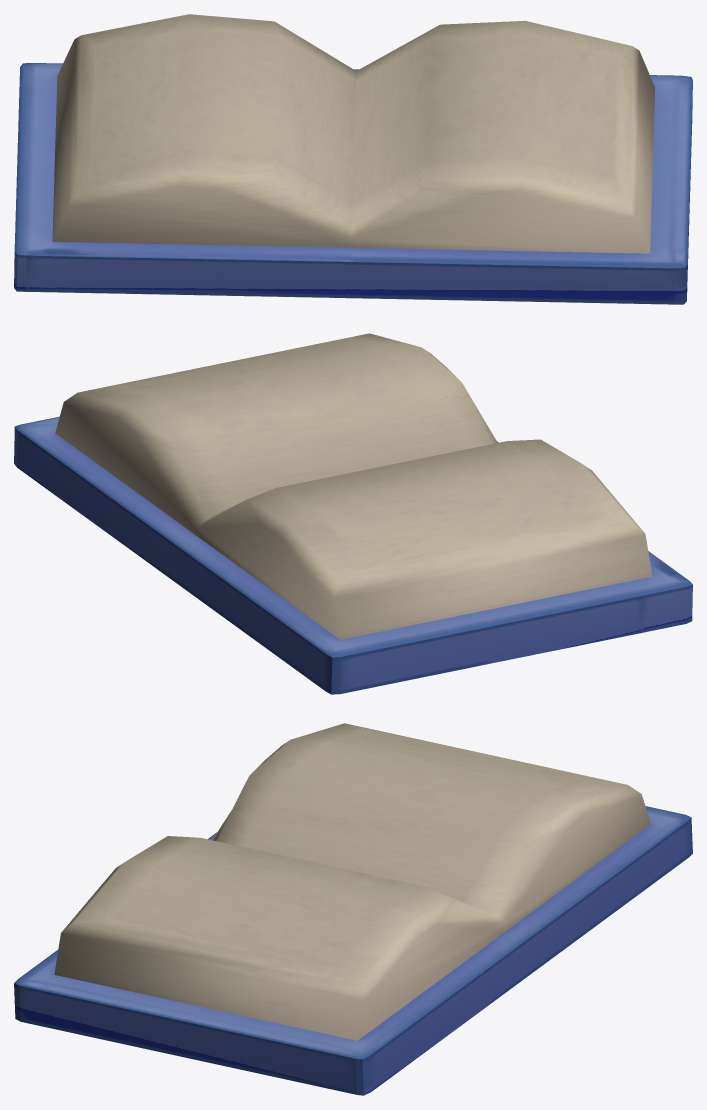
The model's file is book.glb.
3 views of the same model, one above another, from view 1: azimuth 30°, elevation 25°; view 2: azimuth 150°, elevation 25°; view 3: azimuth 270°, elevation 25° (orthographic). The views are drawn at different scales.
Parts seen in each view (by area): view 1: SM_island_book; view 2: SM_island_book; view 3: SM_island_book.
Part boxes in pixels (x1,y1,x2,y2): SM_island_book: [14, 14, 692, 304]; SM_island_book: [14, 333, 692, 694]; SM_island_book: [14, 723, 692, 1095].
Bounding box in the file's own units: 3.74 × 0.6725 × 3.34.
1 material, 1 textured.
